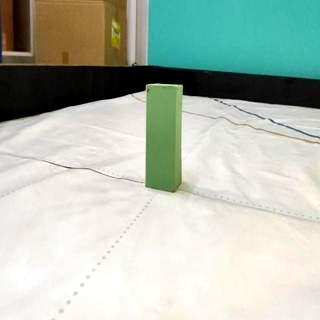greenbox: (144, 83, 182, 193)
